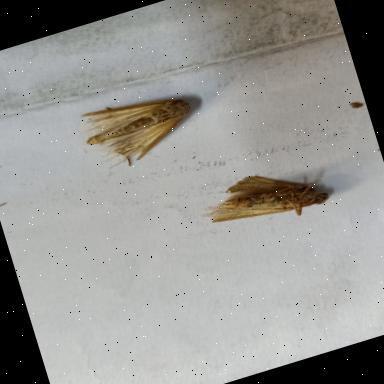abw: (192, 155, 332, 244), (74, 84, 202, 178)
